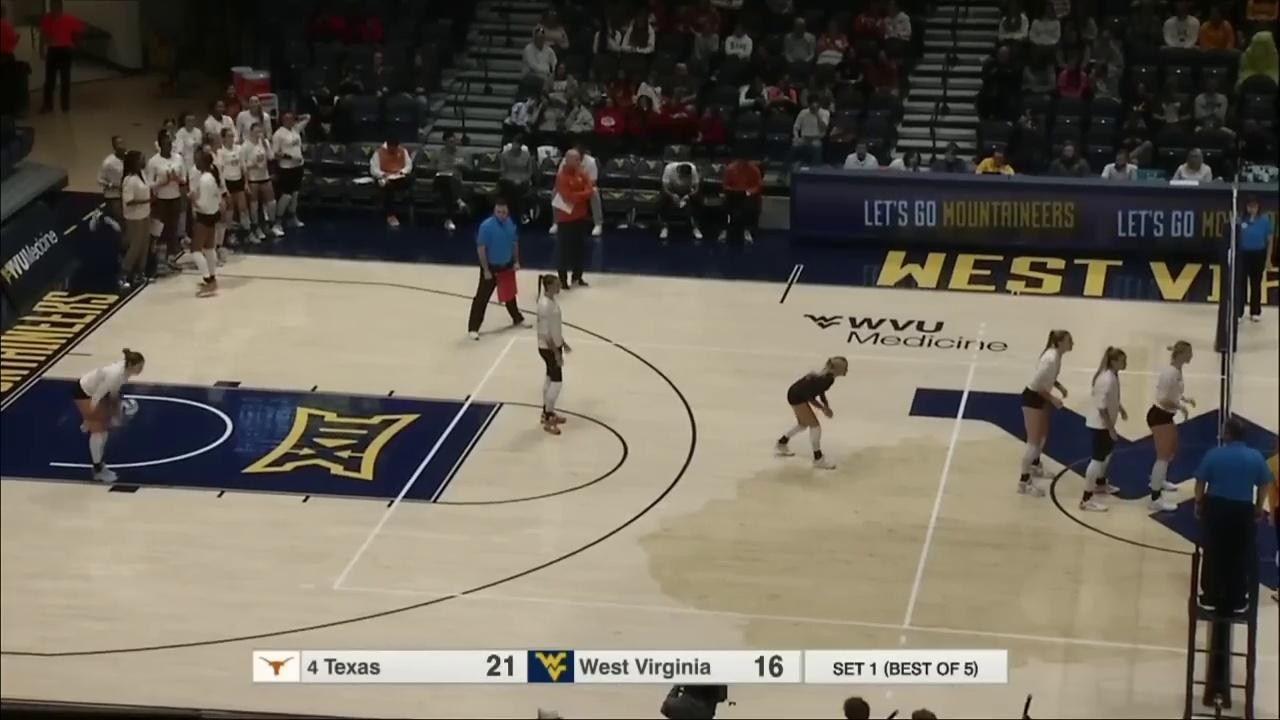player: (71, 346, 143, 483), (770, 355, 850, 469), (1022, 329, 1074, 502), (1147, 339, 1194, 516), (1083, 347, 1129, 511), (533, 273, 574, 437), (1259, 429, 1280, 604)
refree: (1195, 424, 1269, 615), (466, 201, 536, 337), (1232, 201, 1269, 322)
